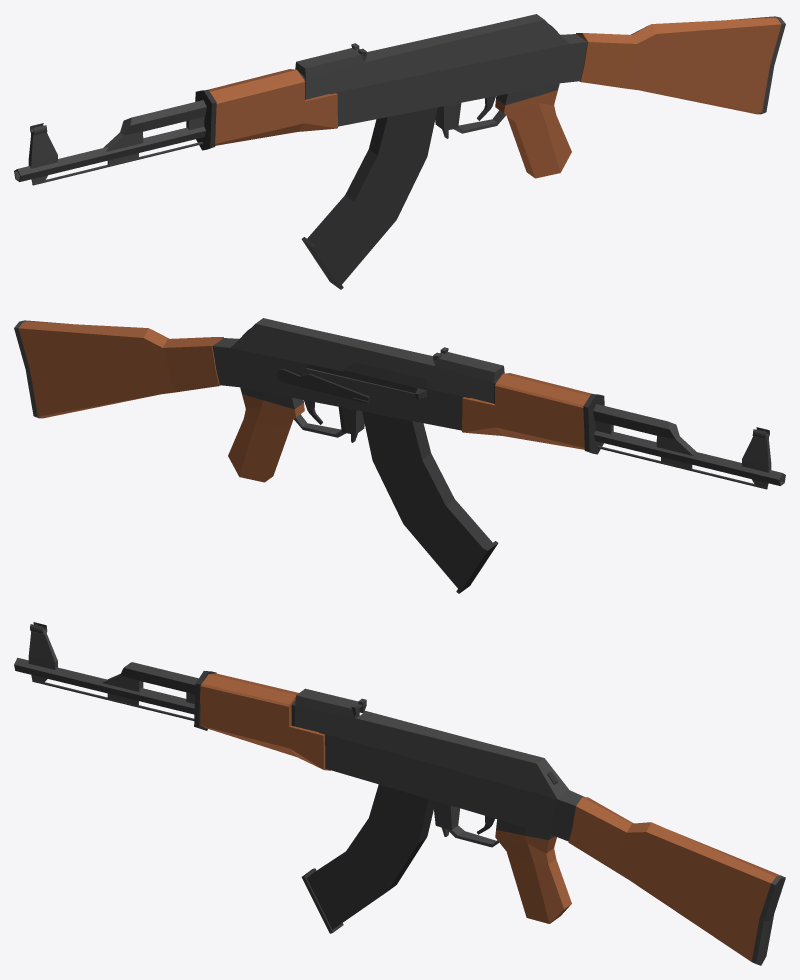
The picture shows the model from 3 angles, top to bottom: view 1: azimuth 30°, elevation 25°; view 2: azimuth 150°, elevation 25°; view 3: azimuth 330°, elevation 25°; orthographic projection.
Parts seen in each view (by area): view 1: Base, Stock, Front, Mag; view 2: Base, Stock, Front, Mag, Bolt, Safety; view 3: Base, Stock, Front, Mag.
Boxes of the visible parts, bbox=[...] form: Base: bbox=[295, 14, 587, 178]; Stock: bbox=[576, 16, 785, 114]; Front: bbox=[14, 69, 337, 185]; Mag: bbox=[301, 107, 437, 289]; Base: bbox=[212, 318, 504, 482]; Stock: bbox=[14, 320, 223, 418]; Front: bbox=[462, 373, 785, 489]; Mag: bbox=[362, 411, 498, 593]; Bolt: bbox=[307, 362, 427, 398]; Safety: bbox=[276, 369, 369, 403]; Base: bbox=[291, 688, 584, 923]; Stock: bbox=[568, 797, 785, 965]; Front: bbox=[14, 622, 330, 770]; Mag: bbox=[301, 784, 433, 933].
Size of the model in its own units: 10.17 by 2.96 by 0.4214.
